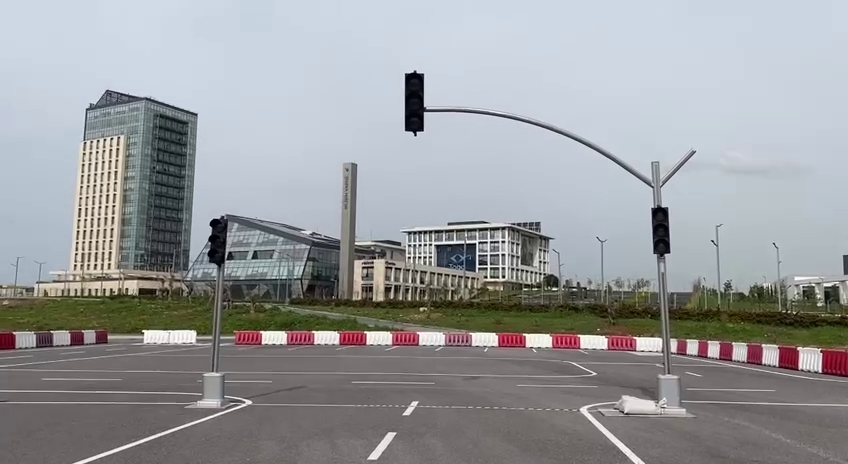trafficLight: (402, 69, 429, 137), (648, 205, 674, 260), (207, 216, 230, 268)
